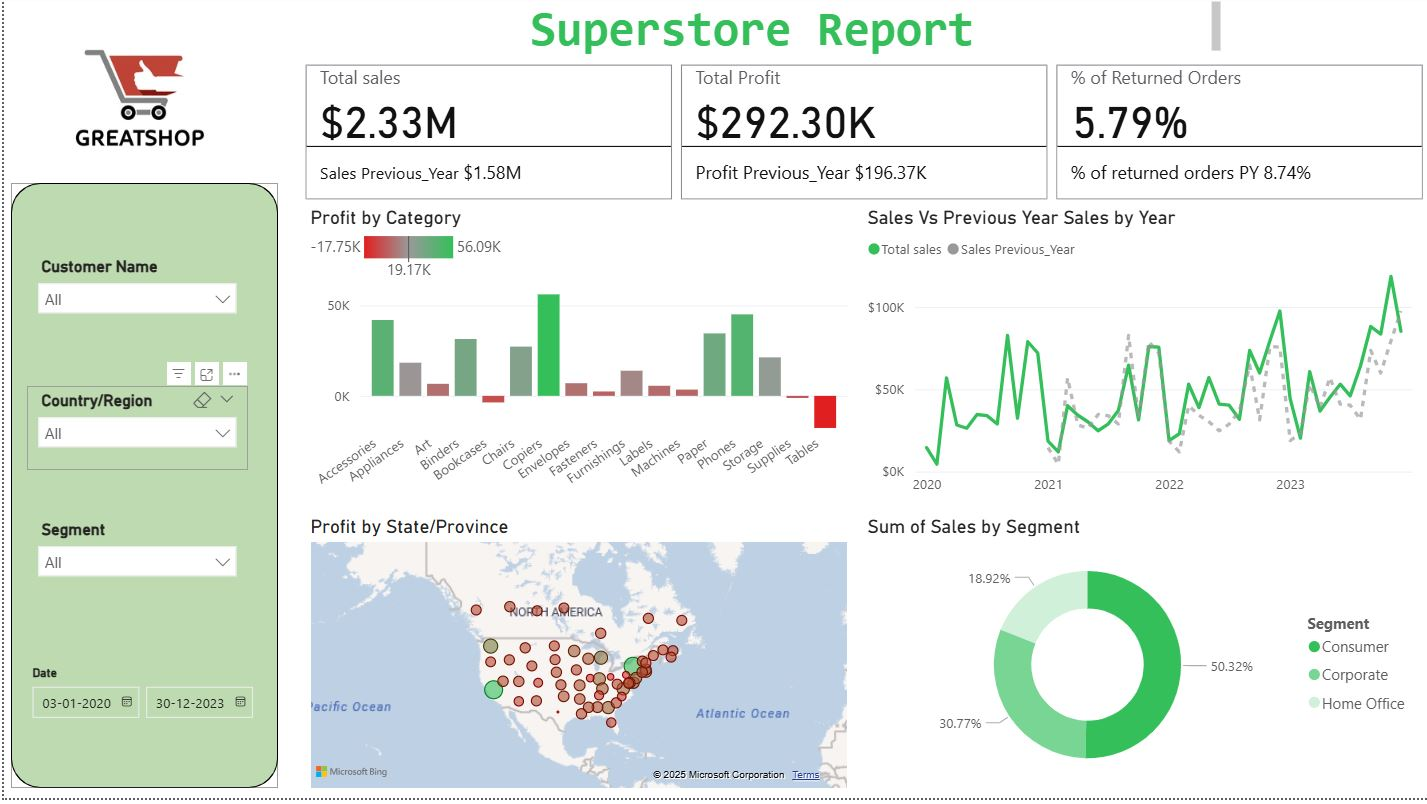

The dashboard page shown, as its layout file describes it:
{"tool":"powerbi","page":{"name":"Superstore","canvas":[1280,720],"ordinal":0},"visuals":[{"type":"lineChart","title":"Sales Vs Previous Year Sales  by Year","fields":{"Category":["Date.Monthyear"],"Y":["Orders.Total sales","Orders.Sales Previous_Year"]},"box":[770.3,188.5,501.8,268.4],"z":0},{"type":"columnChart","title":"Profit by Category","fields":{"Category":["Orders.Category","Orders.Sub-Category"],"Y":["Sum(Orders.Profit)"]},"box":[270.2,188.5,492,272.9],"z":1000},{"type":"map","title":"Profit by State/Province","fields":{"Category":["Orders.State/Province"],"Size":["Sum(Orders.Profit)"]},"box":[270.2,465.9,492,249.6],"z":2000},{"type":"textbox","box":[253.2,0,843.9,56.6],"z":3000},{"type":"donutChart","fields":{"Category":["Orders.Segment"],"Y":["Sum(Orders.Sales)"]},"box":[770.3,465.9,501.8,249.6],"z":4000},{"type":"group","id":"g1","title":"Group 1","box":[5.9,167.8,239.7,543.1],"z":5000},{"type":"image","box":[7.2,9,225.3,150.8],"z":6000},{"type":"cardVisual","fields":{"Data":["Orders.Total sales","Orders.Total Profit","Orders.% of Returned Orders"]},"box":[265.7,56.6,1014.5,132],"z":7000},{"type":"shape","box":[5.9,167.8,239.7,543.1],"z":9000,"group":"g1"},{"type":"slicer","title":"Cus name s","fields":{"Values":["Orders.Customer Name"]},"box":[20.7,229.6,198.4,75],"z":10000,"group":"g1"},{"type":"slicer","title":"Country s","fields":{"Values":["Orders.Country/Region"]},"box":[20.7,350.1,198.4,75],"z":11000,"group":"g1"},{"type":"slicer","title":"Segment s","fields":{"Values":["Orders.Segment"]},"box":[20.7,466.1,198.4,73.9],"z":12000,"group":"g1"},{"type":"slicer","title":"Date s","fields":{"Values":["Date.Date"]},"box":[12.6,595.7,218.2,73.9],"z":13000,"group":"g1"}]}

Visuals, with their boxes in screenshot pixels (x1, y1, x2, y2), scaled from the page's 1280x720 canvas onto the 1427x804 screenshot:
"Sales Vs Previous Year Sales  by Year" lineChart: bbox(859, 210, 1418, 510)
"Profit by Category" columnChart: bbox(301, 210, 850, 515)
"Profit by State/Province" map: bbox(301, 520, 850, 799)
textbox: bbox(282, 0, 1223, 63)
donutChart - Orders.Segment x Sum(Orders.Sales): bbox(859, 520, 1418, 799)
"Group 1" group: bbox(7, 187, 274, 794)
image: bbox(8, 10, 259, 178)
cardVisual - Orders.Total sales x Orders.Total Profit: bbox(296, 63, 1426, 211)
shape: bbox(7, 187, 274, 794)
"Cus name s" slicer: bbox(23, 256, 244, 340)
"Country s" slicer: bbox(23, 391, 244, 475)
"Segment s" slicer: bbox(23, 520, 244, 603)
"Date s" slicer: bbox(14, 665, 257, 748)
